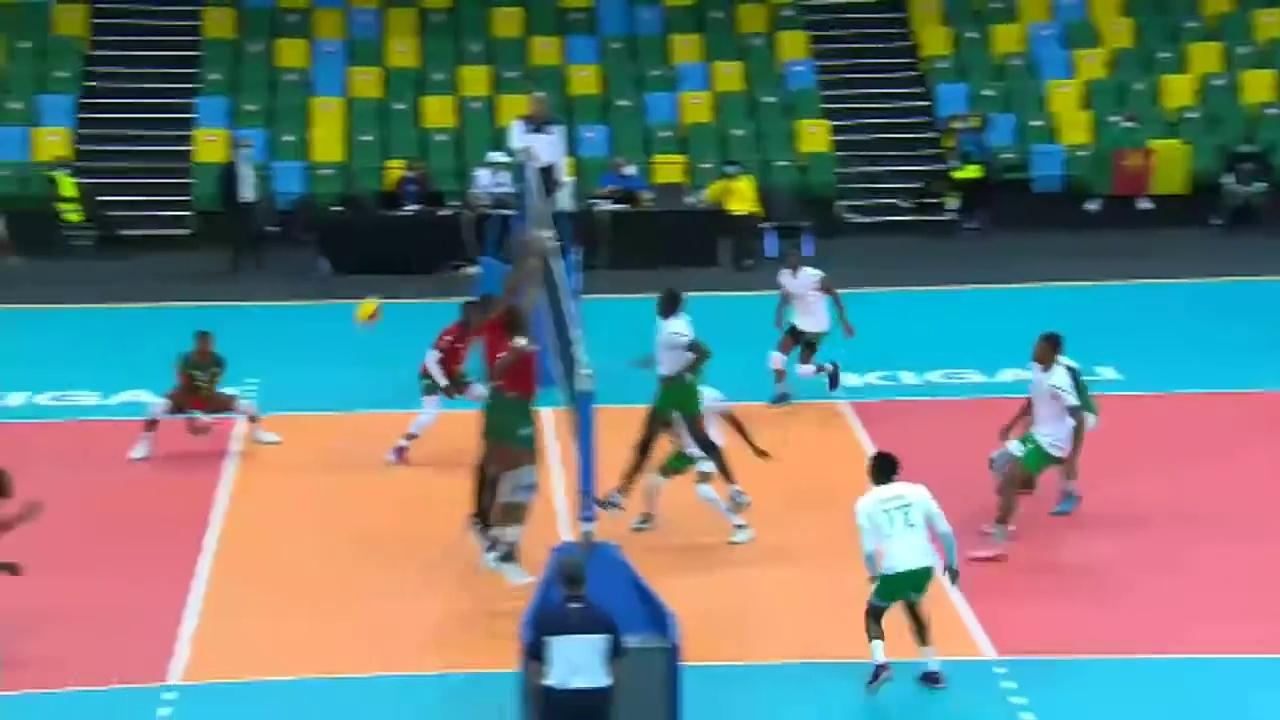player: (614, 276, 751, 516), (853, 448, 962, 696), (631, 357, 758, 542), (469, 251, 541, 550), (134, 321, 272, 463), (392, 296, 488, 472), (482, 309, 538, 591), (767, 254, 854, 408)
refree: (530, 555, 621, 720), (509, 92, 571, 225)
